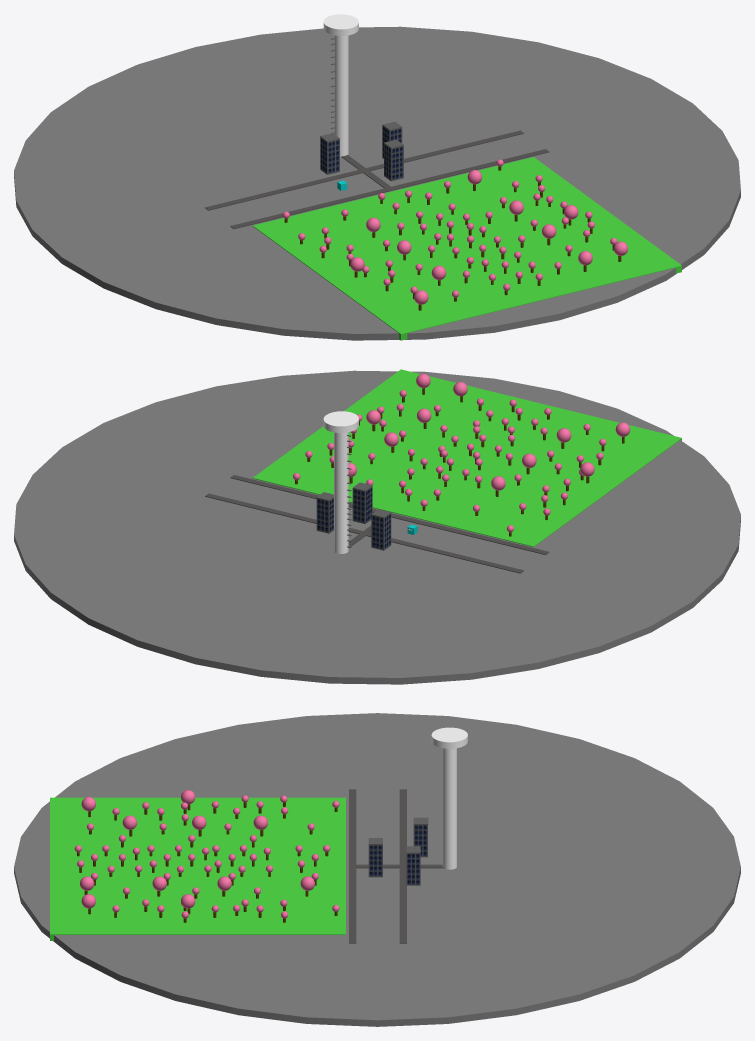
The model's file is world.glb.
The picture shows the model from 3 angles, top to bottom: view 1: azimuth 30°, elevation 25°; view 2: azimuth 150°, elevation 25°; view 3: azimuth 270°, elevation 25°; orthographic projection.
Parts seen in each view (by area): view 1: Cylinder_1 (×2), Box, road (×2), Cylinder, Box_1, Box_5; view 2: Cylinder_1 (×2), Box, road (×2), Cylinder, Box_1, Box_5, Box_3; view 3: Cylinder_1 (×2), Box, road (×2), Cylinder.
Part boxes in pixels (x1,y1,x2,y2): Cylinder_1 (×2): (14, 14, 740, 340); Box: (253, 157, 681, 340); road (×2): (205, 130, 549, 229); Cylinder: (334, 35, 348, 156); Box_1: (384, 143, 403, 181); Box_5: (320, 137, 339, 174); Cylinder_1 (×2): (14, 370, 740, 684); Box: (252, 369, 681, 546); road (×2): (205, 475, 549, 573); Cylinder: (334, 432, 348, 553); Box_1: (352, 486, 372, 523); Box_5: (371, 513, 391, 550); Box_3: (316, 497, 333, 533); Cylinder_1 (×2): (14, 713, 740, 1026); Box: (50, 797, 345, 940); road (×2): (349, 789, 406, 943); Cylinder: (442, 748, 456, 869).
Bounding box in the file's own units: 100 × 21 × 100.
Materials: 13 (1 with a texture image).
